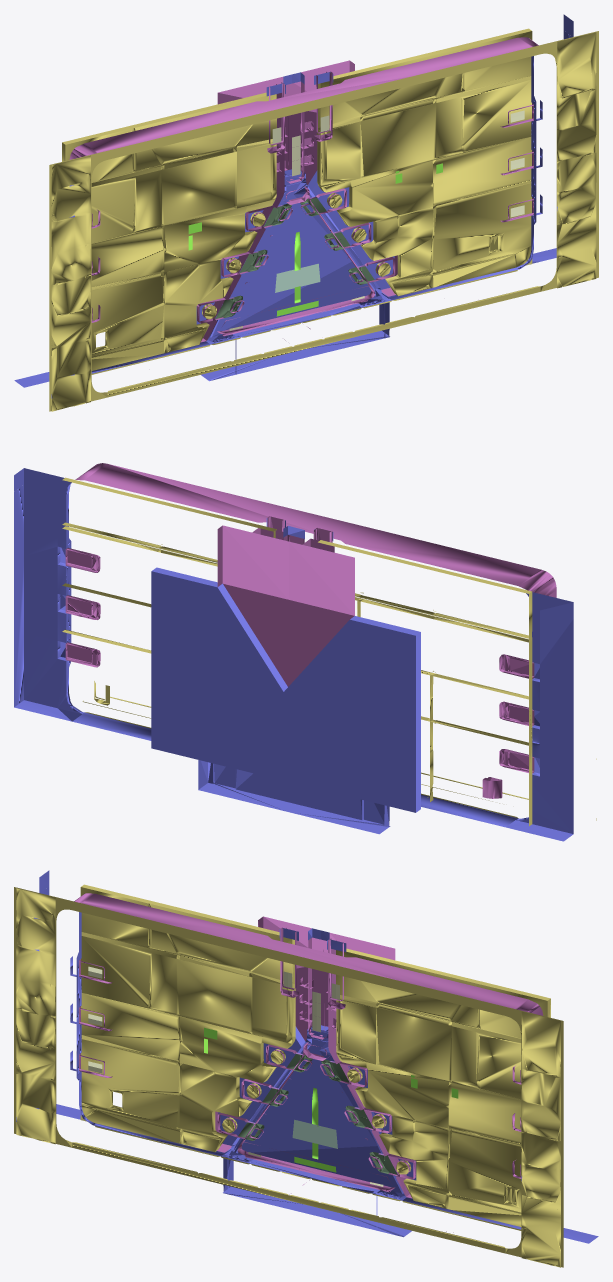
File: deluxe_exit_large_c.glb
3 renders of one model, top to bottom at view 1: azimuth 30°, elevation 25°; view 2: azimuth 150°, elevation 25°; view 3: azimuth 330°, elevation 25°, orthographic.
Bounding box in the file's own units: 104 × 50.52 × 13.29.
